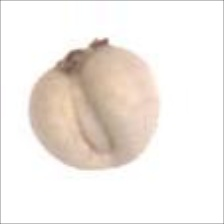L5: (70, 74, 117, 154), (48, 35, 112, 78), (96, 144, 145, 171)
L6: (28, 35, 161, 173)
